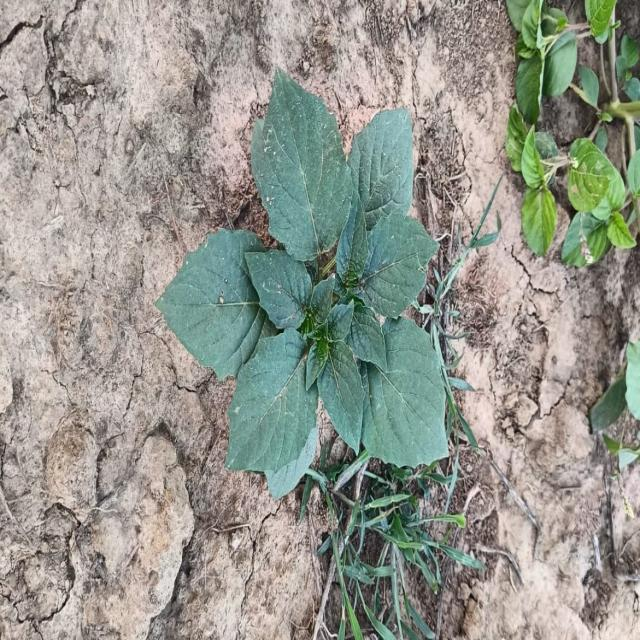weed: (157, 69, 448, 496)
